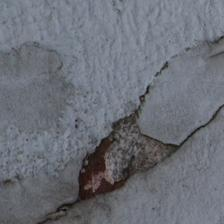Crack: (39, 120, 218, 224), (78, 52, 180, 102), (63, 47, 113, 131)
